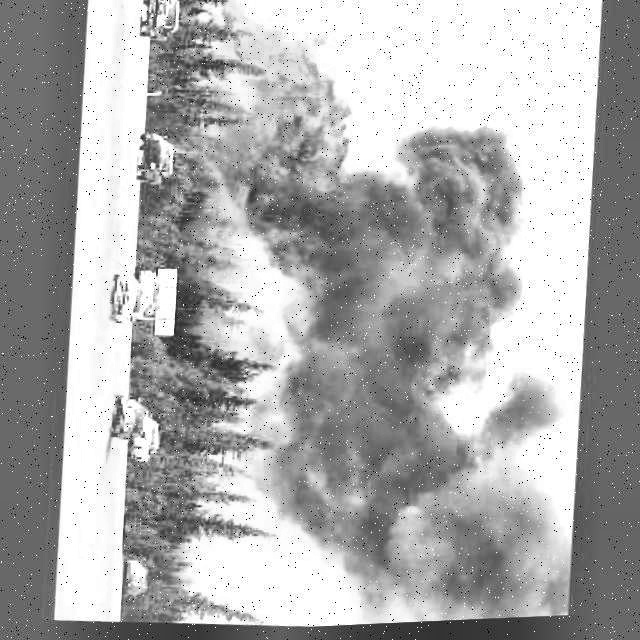Fire: (187, 0, 379, 229)
Smoke: (229, 112, 604, 632)
